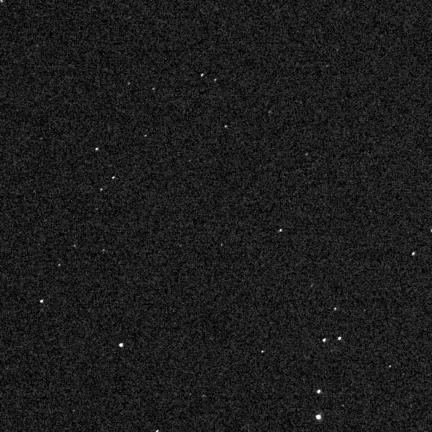blob: (316, 414, 321, 420), (201, 74, 205, 78), (119, 343, 123, 347), (412, 252, 416, 256), (280, 229, 283, 233), (225, 125, 228, 129), (323, 338, 326, 342), (112, 177, 116, 180), (41, 300, 44, 304), (317, 390, 321, 393), (96, 148, 99, 151), (100, 189, 103, 192), (262, 351, 265, 354), (338, 337, 341, 340), (334, 308, 337, 311)
